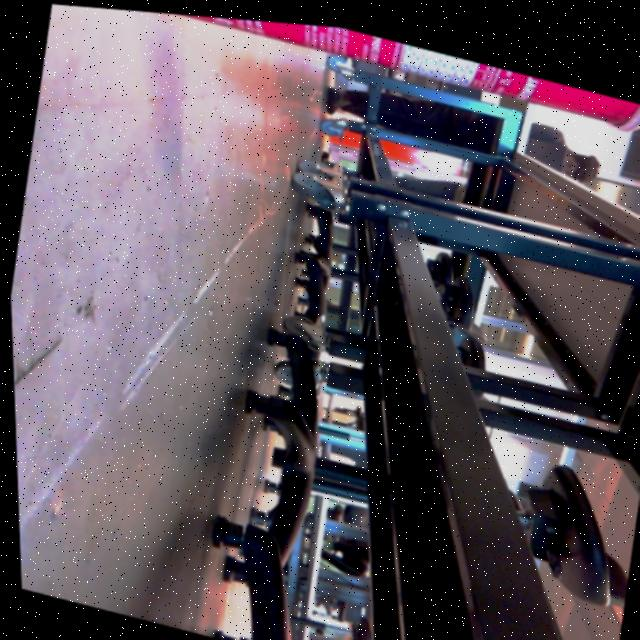redpringles: (84, 5, 640, 167)
